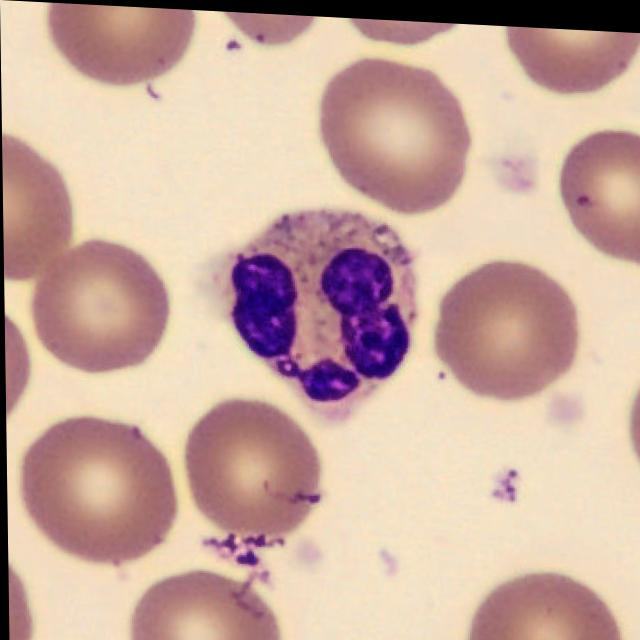Neutrofilo segmentado: (227, 206, 415, 401)
